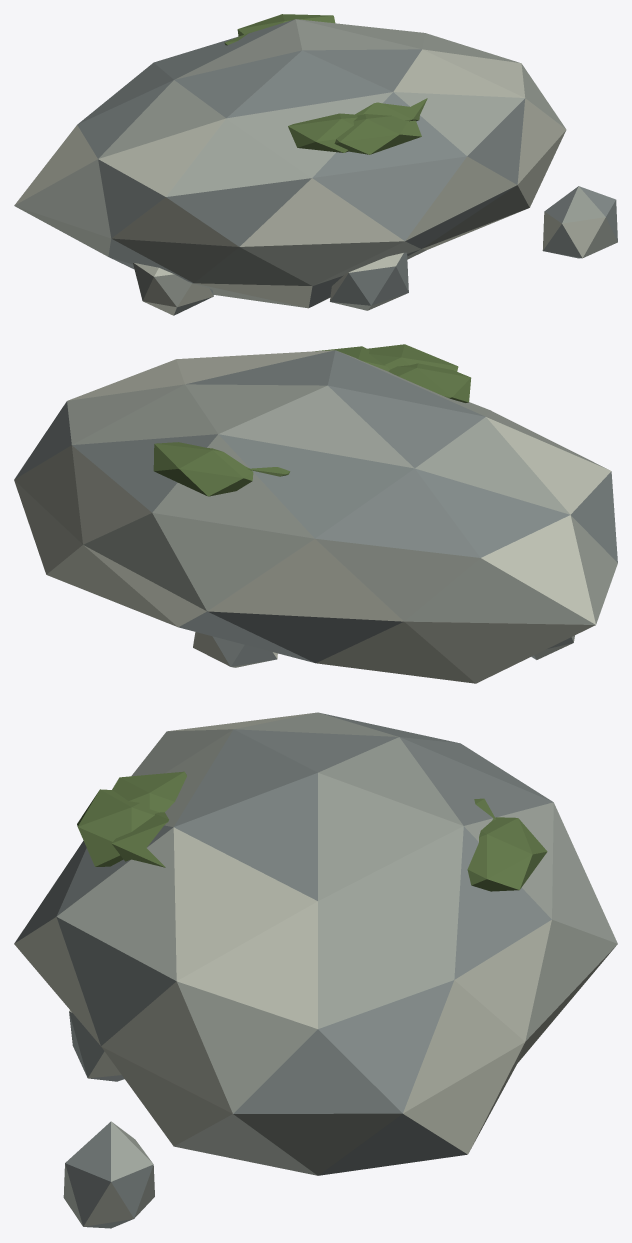
The model's file is mossy_rock_b.glb.
3 renders of one model, top to bottom at view 1: azimuth 30°, elevation 25°; view 2: azimuth 150°, elevation 25°; view 3: azimuth 270°, elevation 25°, orthographic. The views are drawn at different scales.
Visible parts, largest first — view 1: mossy_rock_b; view 2: mossy_rock_b; view 3: mossy_rock_b.
Boxes of the visible parts, x1,y1,x2,y2 form: mossy_rock_b: (14,14,617,315); mossy_rock_b: (14,344,617,683); mossy_rock_b: (14,712,617,1228).
Size of the model in its own units: 2.04 by 0.9064 by 1.44.
